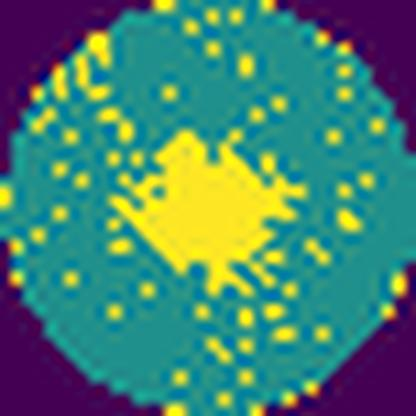Center: (112, 128, 293, 274)
